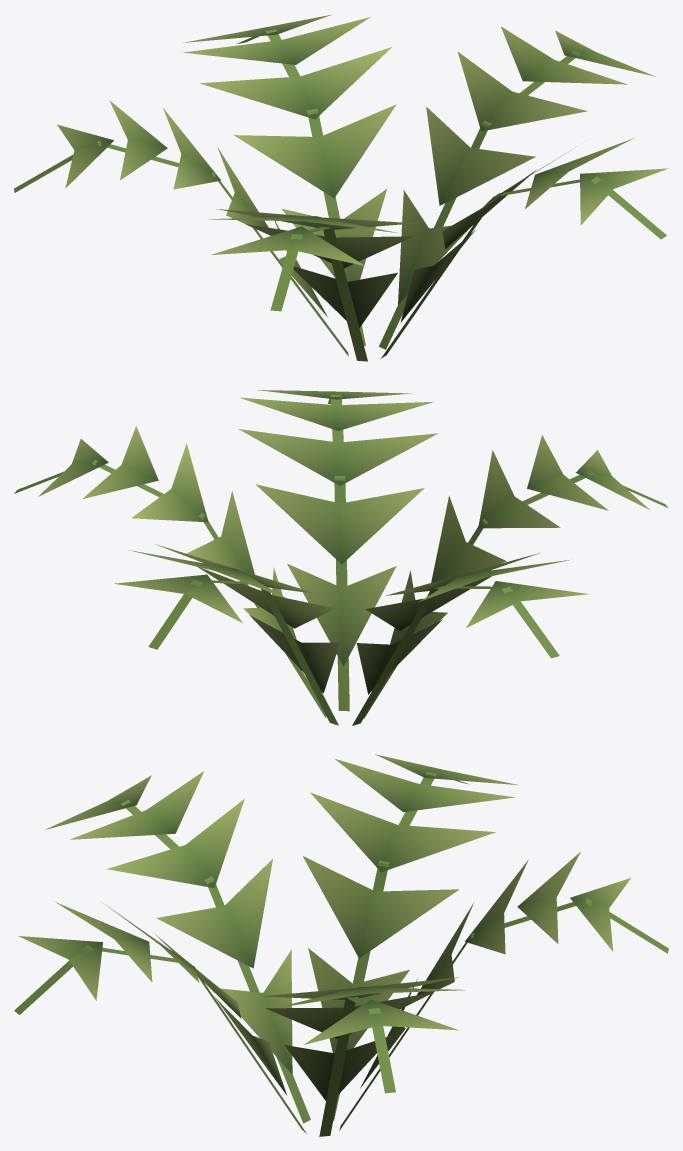
Rendered from deco-fern.glb.
3 views of the same model, one above another, from view 1: azimuth 30°, elevation 25°; view 2: azimuth 150°, elevation 25°; view 3: azimuth 270°, elevation 25° (orthographic). The views are drawn at different scales.
Visible parts, largest first — view 1: 0_fern; view 2: 0_fern; view 3: 0_fern.
Part boxes in pixels (left/top/right/bottom): 0_fern: left=14, top=14, right=668, bottom=361; 0_fern: left=14, top=390, right=668, bottom=725; 0_fern: left=14, top=754, right=668, bottom=1136.
Size of the model in its own units: 1.41 by 0.514 by 1.25.
